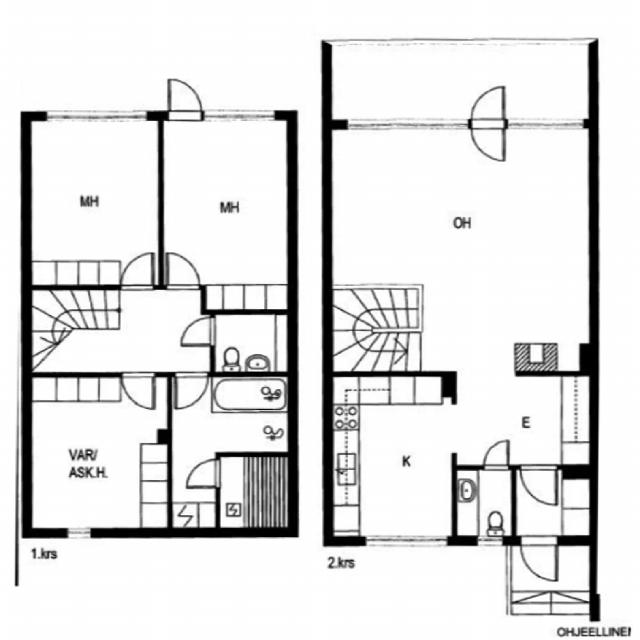door: (520, 464, 556, 506), (522, 536, 556, 578), (168, 80, 201, 120), (120, 253, 154, 290), (472, 119, 503, 158), (175, 372, 208, 408), (472, 90, 503, 128), (166, 254, 198, 289), (122, 371, 153, 407), (180, 316, 216, 346), (185, 458, 220, 488), (484, 442, 507, 472)
